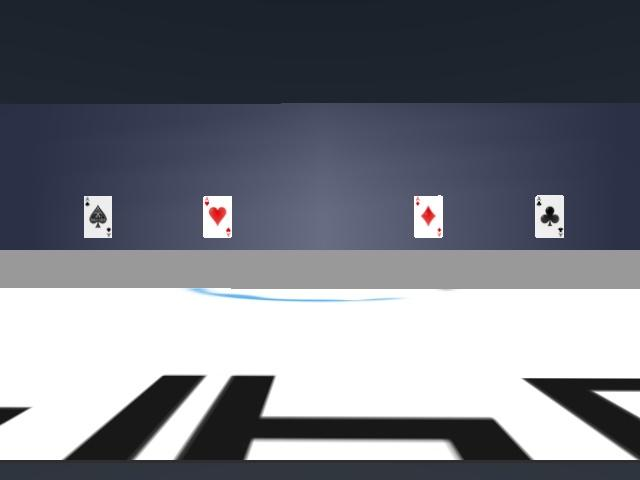club: (534, 195, 565, 238)
diamond: (414, 195, 444, 238)
heart: (202, 196, 231, 237)
spade: (83, 196, 113, 239)
